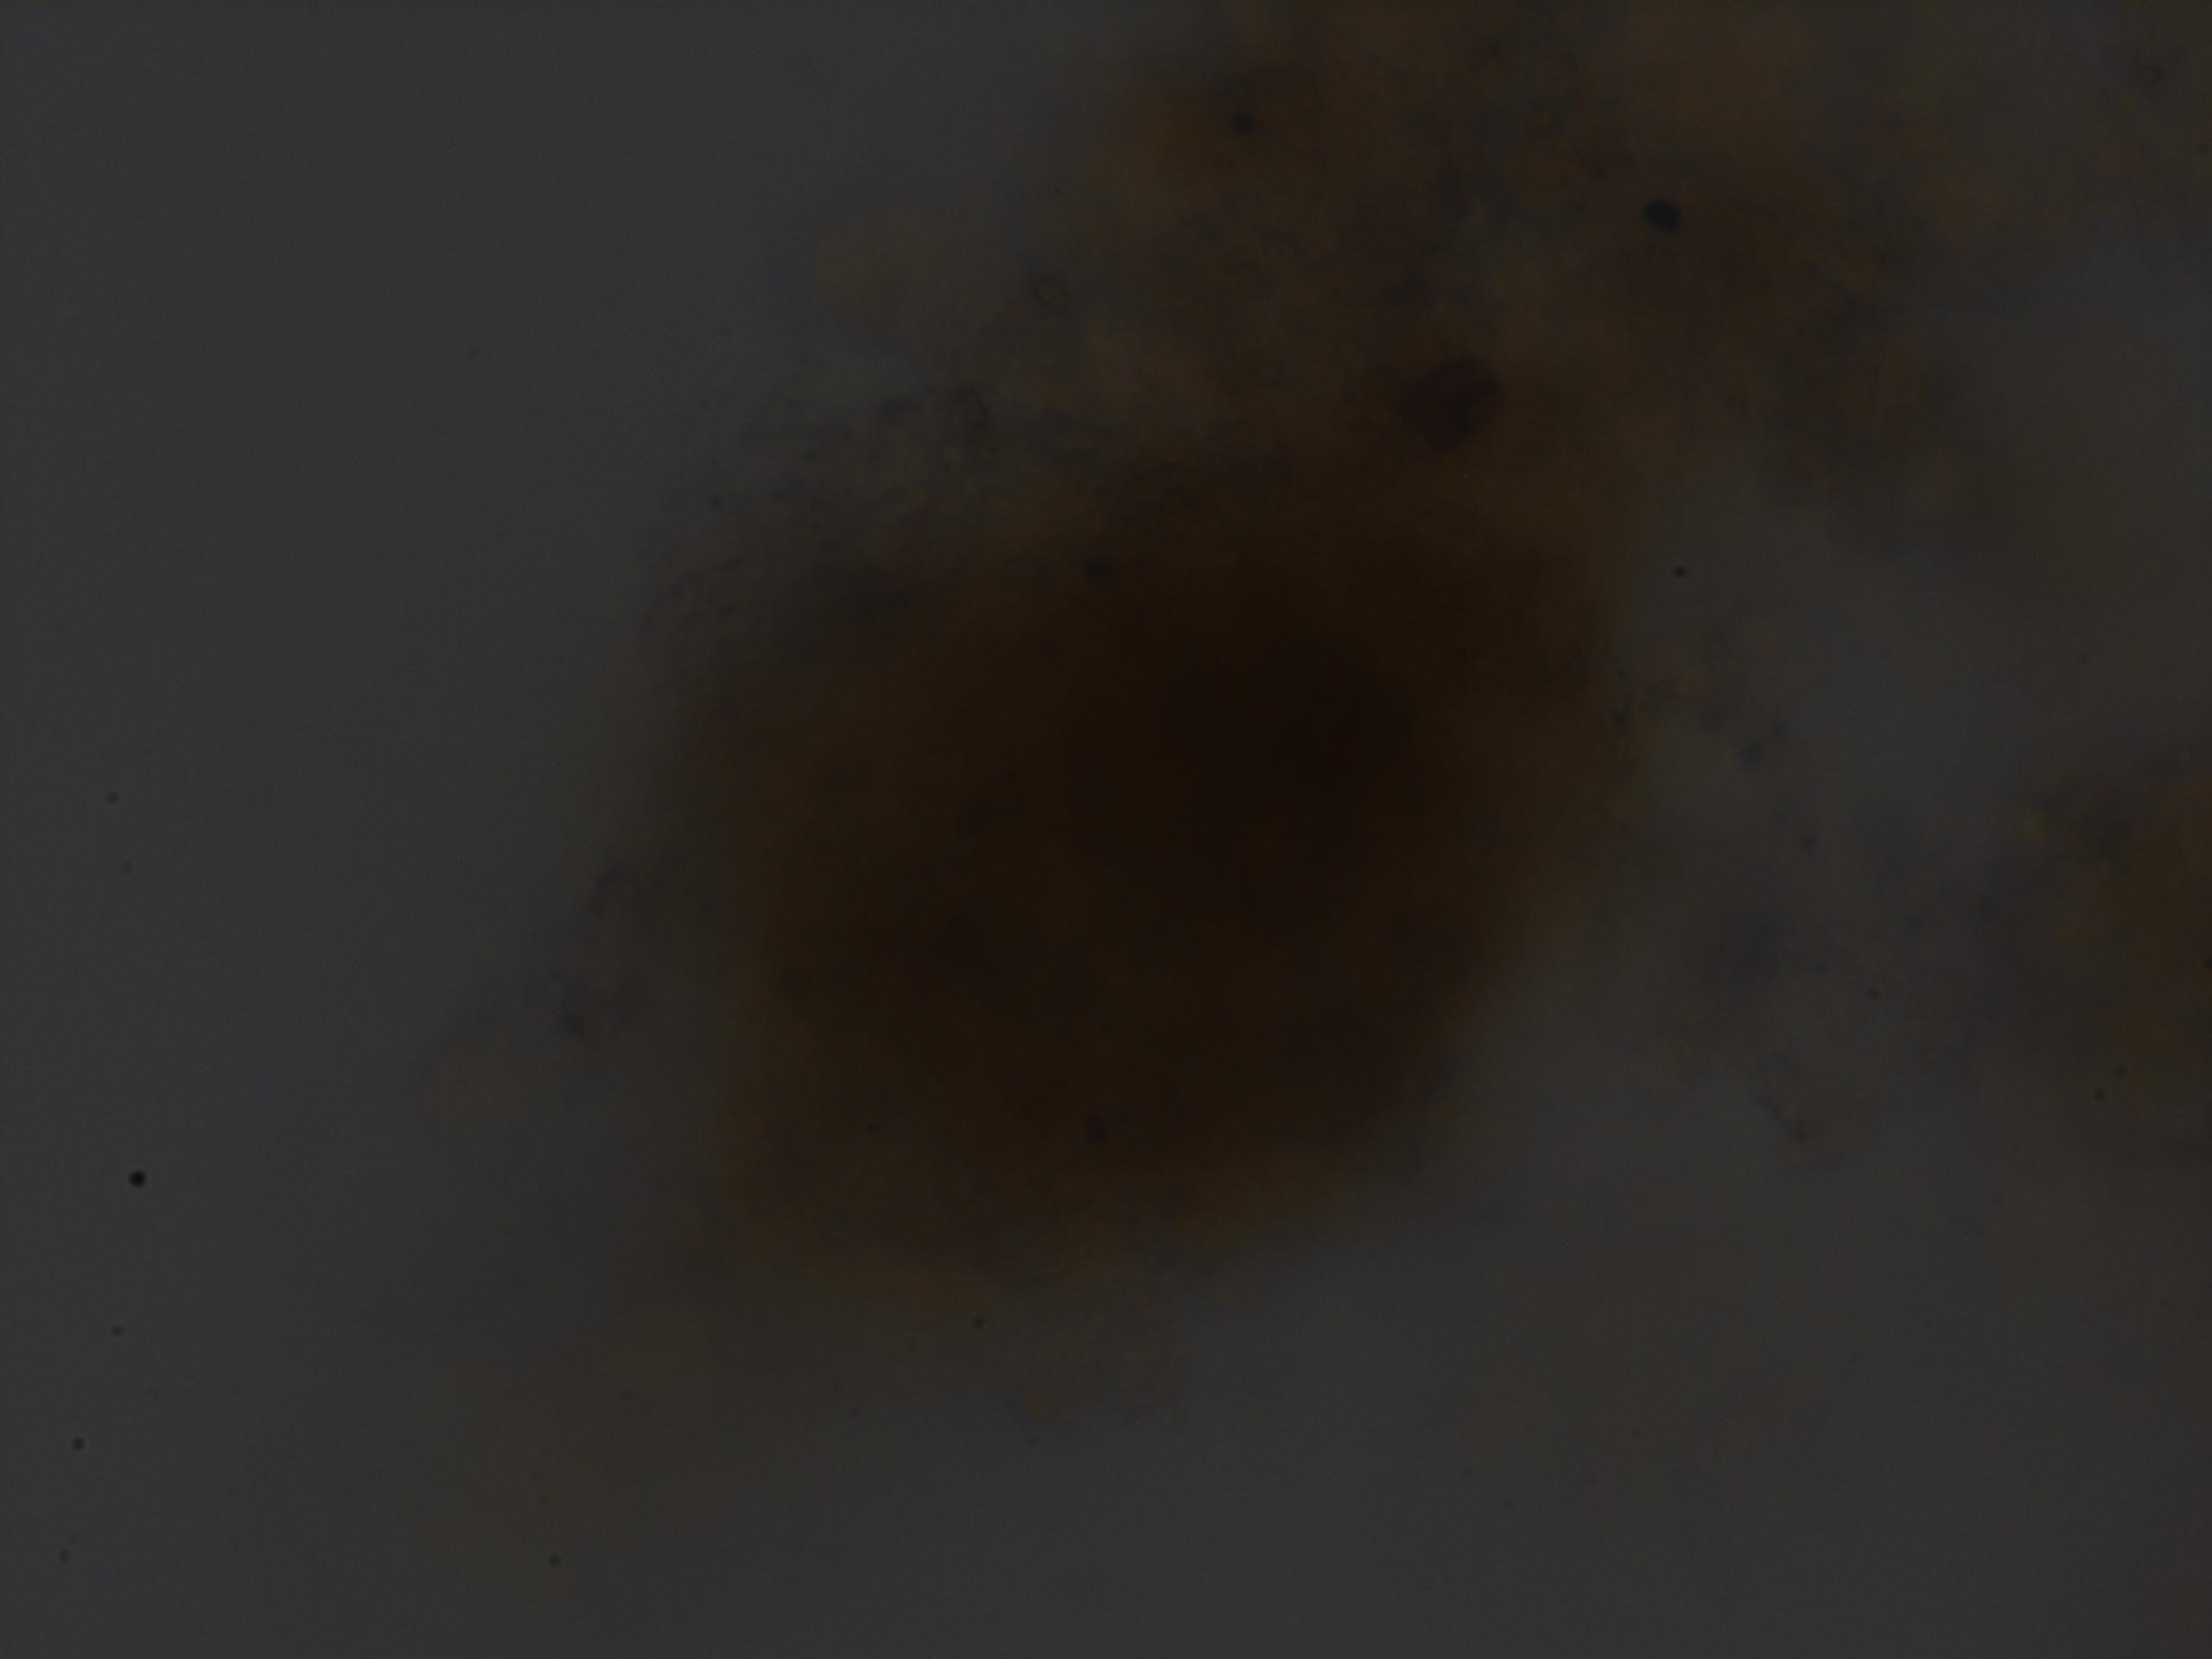spherical_floc: (617, 397, 1625, 1293)
